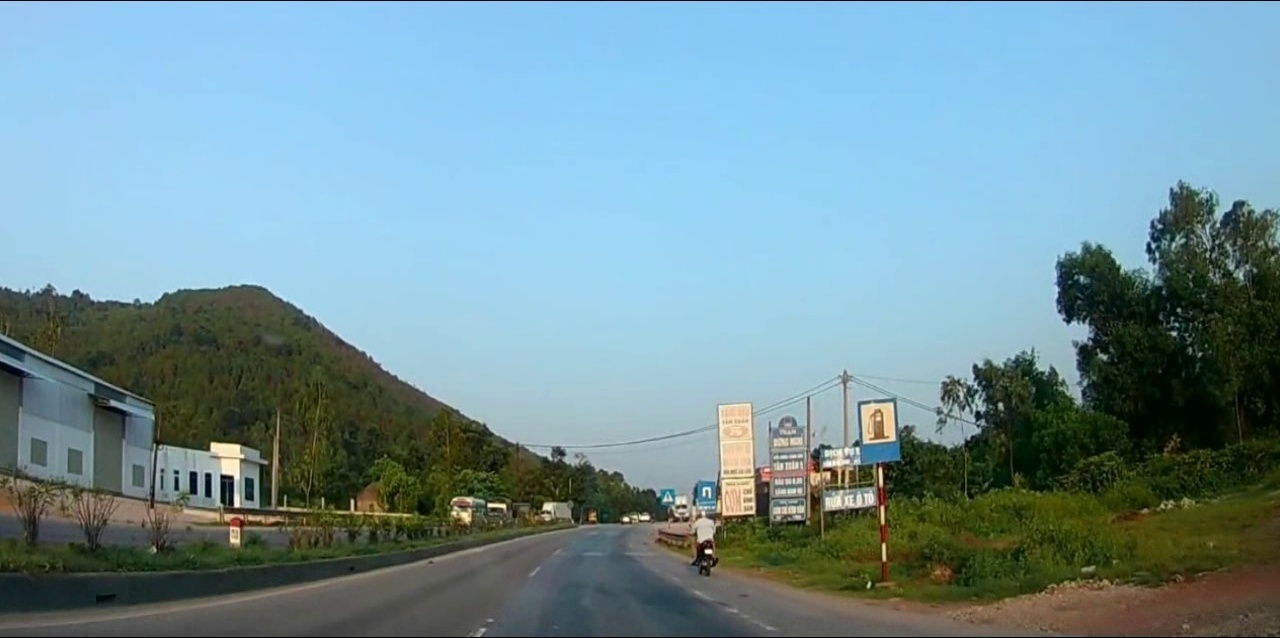Bien khac: (856, 395, 902, 466), (695, 482, 716, 512)
Nguoi di bo: (660, 488, 676, 506)
